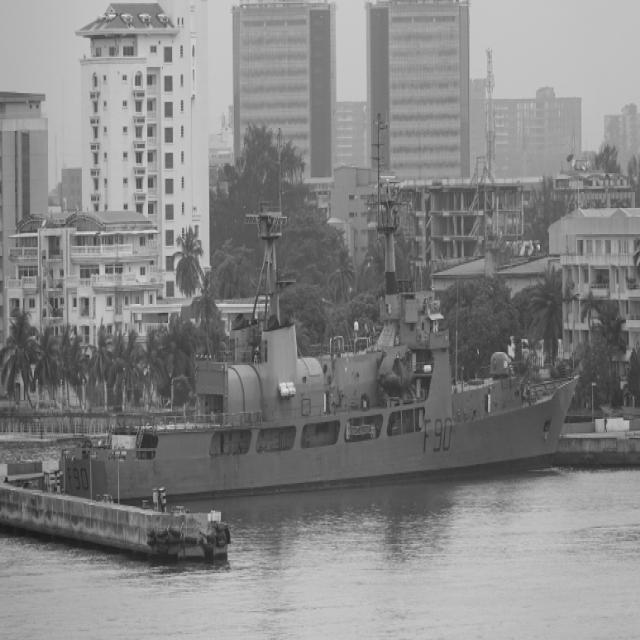Fragata: (58, 165, 584, 510)
